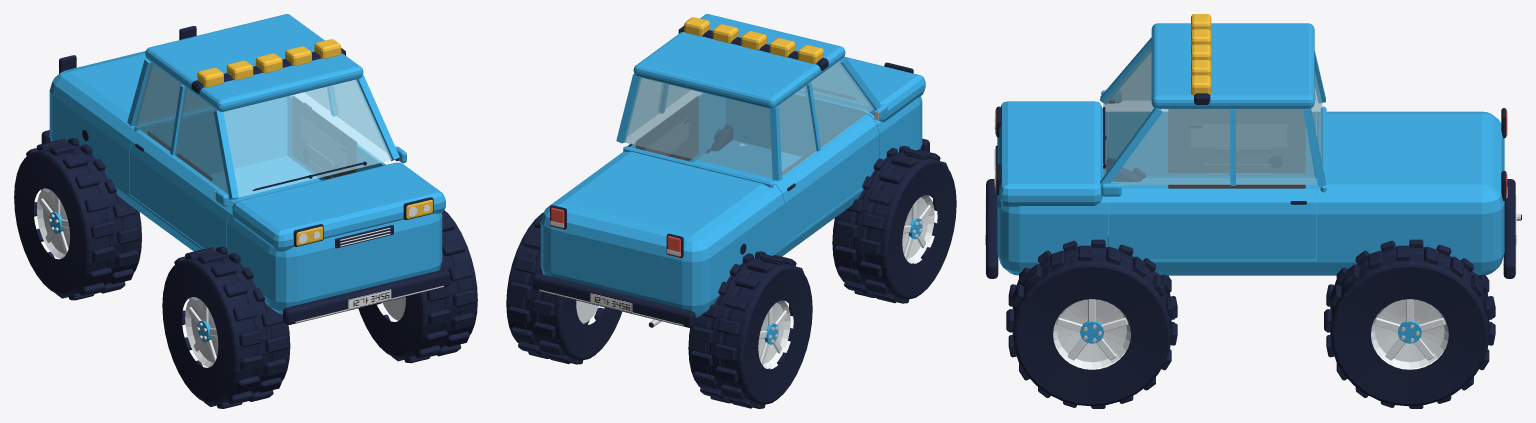
Rendered from B01_monster_truck_v2.glb.
The picture shows the model from 3 angles, left to right: view 1: azimuth 30°, elevation 25°; view 2: azimuth 150°, elevation 25°; view 3: azimuth 270°, elevation 25°; orthographic projection. The views are drawn at different scales.
Visible parts, largest first — view 1: Body, Glass, Wheel_RR, Wheel_FR, Wheel_FL, Door_R, DoorDetail_L, Bumper_Front, RoofLightBar, Door_L, Grille, Headlight_1 (+2 smaller); view 2: Body, Glass, Wheel_FR, Wheel_RR, Wheel_RL, Door_R, Bumper_Rear, RoofLightBar, DoorDetail_L, Door_L, Trunk, LicensePlate_Rear; view 3: Body, Wheel_FL, Wheel_RL, Glass, Door_L, DoorDetail_R, Door_R, RoofLightBar, Bumper_Front, Bumper_Rear, DoorDetail_L.
Part boxes in pixels (x1,y1,x2,y2): Body: (49,14,445,314); Glass: (135,62,391,197); Wheel_RR: (14,138,141,300); Wheel_FR: (162,246,290,408); Wheel_FL: (358,210,477,363); Door_R: (129,131,237,251); DoorDetail_L: (293,95,357,179); Bumper_Front: (283,269,450,324); RoofLightBar: (191,39,345,93); Door_L: (288,96,385,180); Grille: (335,225,393,248); Headlight_1: (403,197,433,219); Body: (540,14,925,317); Glass: (624,61,873,178); Wheel_FR: (832,146,956,303); Wheel_RR: (688,251,812,408); Wheel_RL: (506,212,621,364); Door_R: (773,114,879,243); Bumper_Rear: (533,274,695,327); RoofLightBar: (678,17,828,70); DoorDetail_L: (627,96,698,161); Door_L: (630,93,724,161); Trunk: (623,146,773,187); LicensePlate_Rear: (590,293,632,312); Body: (997,23,1504,275); Wheel_FL: (1006,237,1177,408); Wheel_RL: (1324,239,1495,408); Glass: (1103,46,1322,184); Door_L: (1108,188,1316,259); DoorDetail_R: (1168,109,1305,172); Door_R: (1108,112,1316,176); RoofLightBar: (1191,14,1211,104); Bumper_Front: (985,179,998,278); Bumper_Rear: (1503,179,1516,278); DoorDetail_L: (1168,184,1306,204).
Bounding box in the file's own units: 2.97 × 3.25 × 5.27.
Materials: 11 (1 with a texture image).
